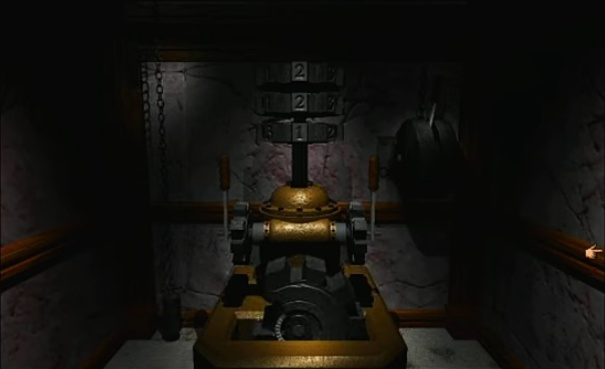Pointer: (583, 240, 603, 262)
